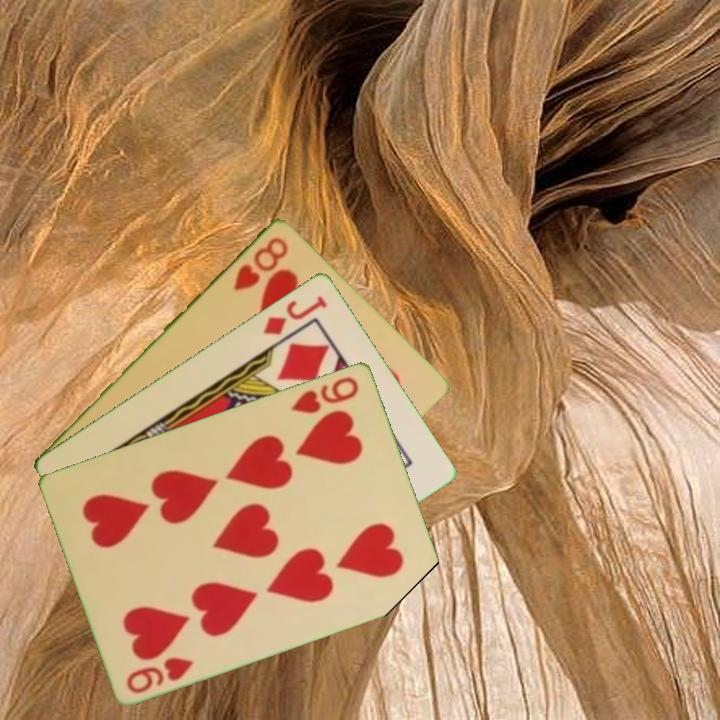8h: (230, 233, 291, 293)
9h: (287, 372, 362, 416), (123, 653, 198, 696)
Jd: (259, 291, 330, 338)
